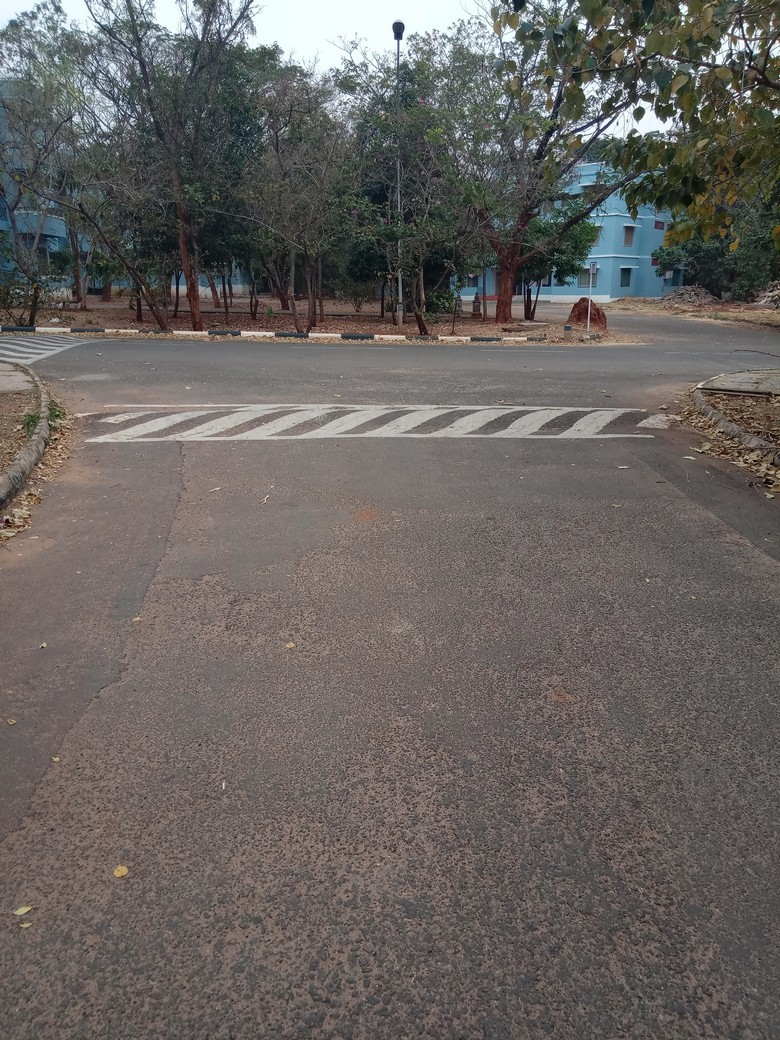bump: (53, 399, 695, 443)
